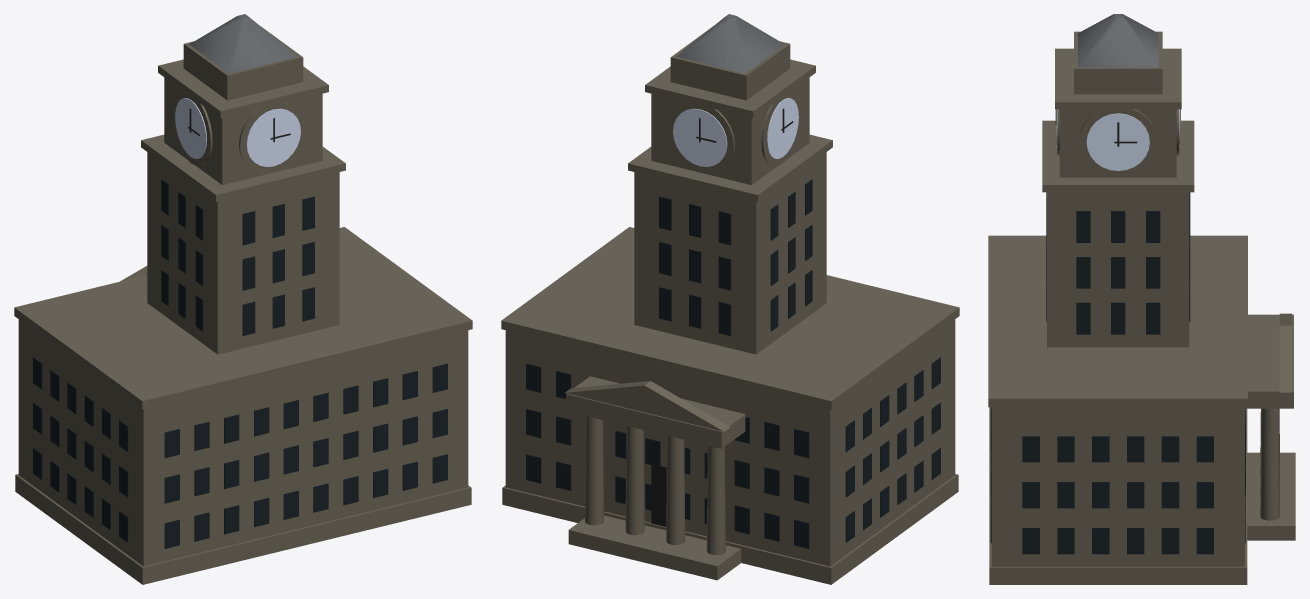
File: CUSTOMS_HOUSE.glb
The picture shows the model from 3 angles, left to right: view 1: azimuth 30°, elevation 25°; view 2: azimuth 150°, elevation 25°; view 3: azimuth 270°, elevation 25°; orthographic projection.
Visible parts, largest first — view 1: stone_0, glass_1, screen_3, roofMetal_4; view 2: stone_0, glass_1, screen_3, roofMetal_4, tread_2; view 3: stone_0, glass_1, roofMetal_4, screen_3.
Boxes of the visible parts, x1,y1,x2,y2 form: stone_0: [14, 26, 472, 584]; glass_1: [33, 179, 447, 548]; screen_3: [175, 98, 300, 166]; roofMetal_4: [189, 14, 297, 73]; stone_0: [501, 26, 959, 584]; glass_1: [526, 179, 940, 548]; screen_3: [673, 98, 798, 166]; roofMetal_4: [676, 14, 784, 73]; tread_2: [651, 108, 793, 526]; stone_0: [988, 31, 1295, 584]; glass_1: [990, 192, 1245, 554]; roofMetal_4: [1078, 14, 1158, 67]; screen_3: [1056, 109, 1179, 170].
Bounding box in the file's own units: 24.4 × 34 × 19.4.
